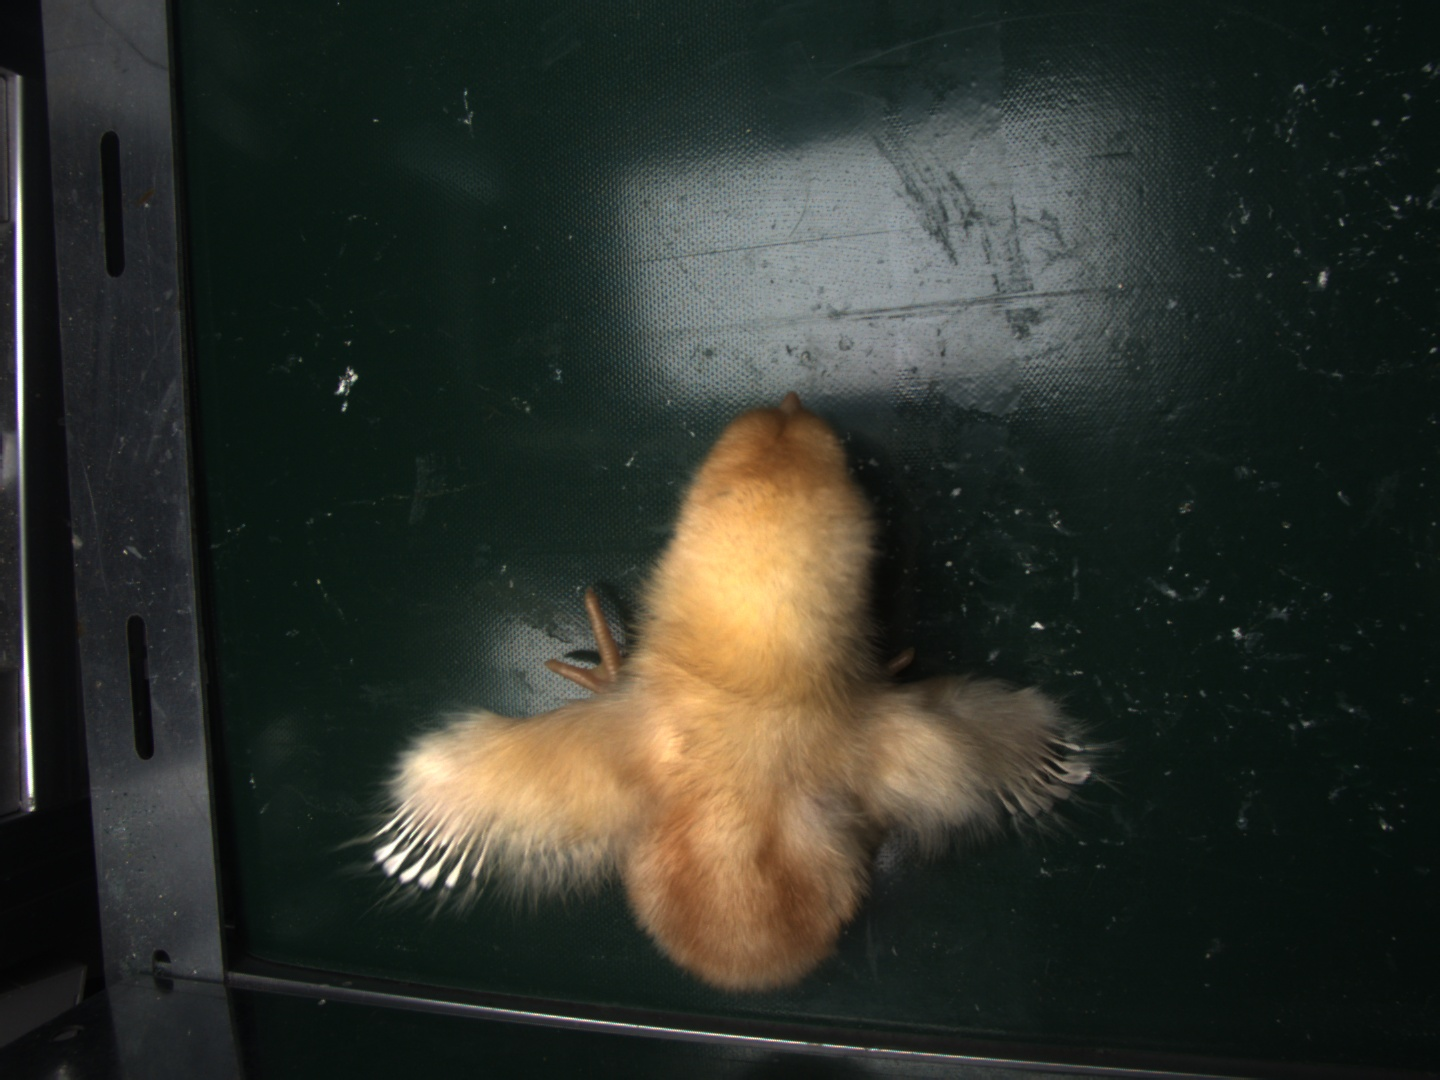female: (374, 799, 484, 892)
